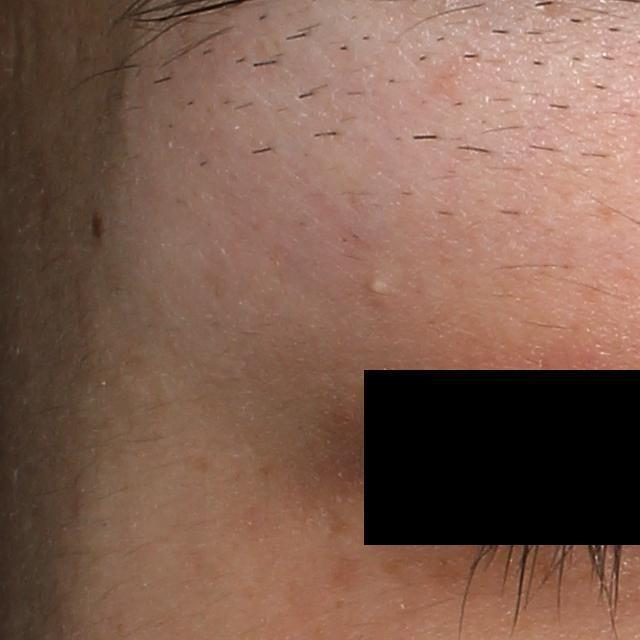comedo: (367, 269, 394, 299)
melasma: (373, 545, 477, 599), (326, 555, 369, 594)
nevus: (90, 209, 106, 240)
